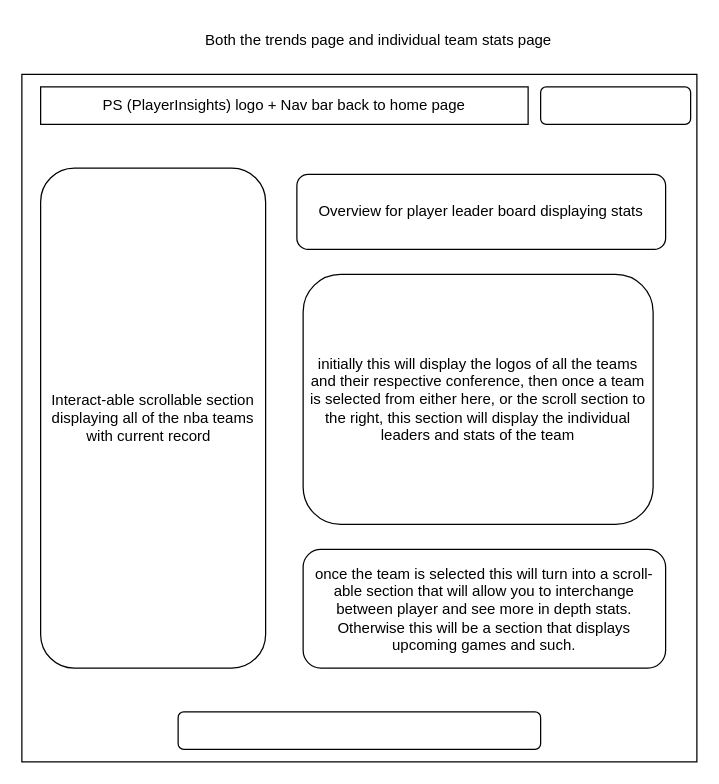
This 719x784 diagram has some shape labels left out. The shapes that lost their labels are listed below. From the top down, each one's centre as x and y in pixels, then its label:
pixel 615 105: Log in
pixel 359 730: Footer : about us page and back to top
